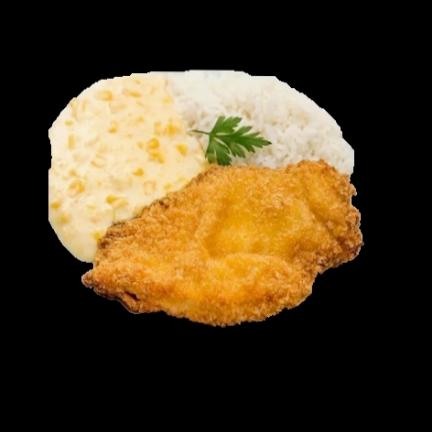chicken: (82, 161, 362, 326)
corn: (49, 74, 206, 261)
rice: (166, 70, 353, 173)
